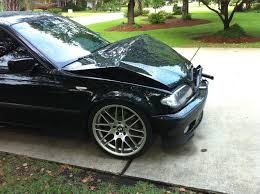Broken-glass: (189, 64, 208, 90)
Dent: (102, 34, 196, 108)
